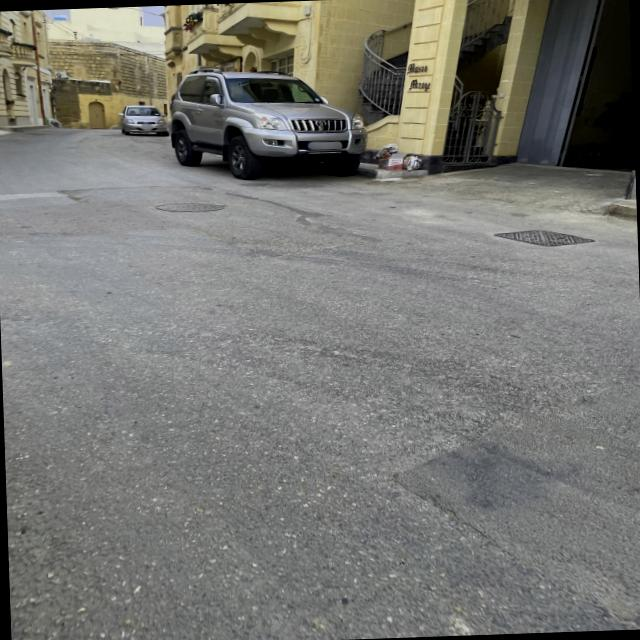grey_bag: (373, 142, 400, 158), (402, 154, 422, 171)
other_waste: (378, 157, 402, 170)
